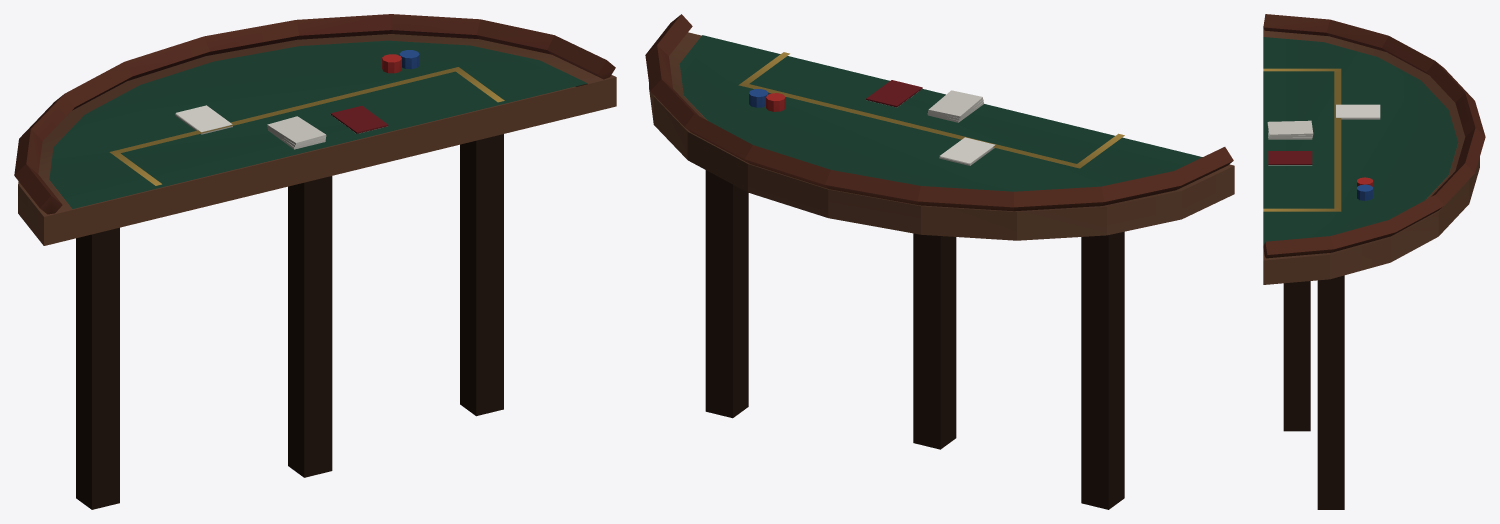
Rendered from table_cards_low.glb.
3 renders of one model, left to right at view 1: azimuth 30°, elevation 25°; view 2: azimuth 150°, elevation 25°; view 3: azimuth 270°, elevation 25°, orthographic. The views are drawn at different scales.
Visible parts, largest first — view 1: table_cards, deck, card_flip, card_face_shown; view 2: table_cards, deck, card_flip, card_face_shown; view 3: table_cards, deck, card_flip, card_face_shown.
Boxes of the visible parts, x1,y1,x2,y2 form: table_cards: [14, 14, 616, 509]; deck: [267, 116, 326, 149]; card_flip: [330, 105, 388, 133]; card_face_shown: [175, 105, 232, 131]; table_cards: [645, 14, 1234, 509]; deck: [927, 90, 983, 122]; card_flip: [866, 80, 922, 107]; card_face_shown: [940, 137, 995, 163]; table_cards: [1263, 14, 1485, 509]; deck: [1267, 120, 1313, 139]; card_flip: [1268, 151, 1312, 164]; card_face_shown: [1336, 104, 1380, 117].
Bounding box in the file's own units: 1.65 × 0.97 × 0.6564.
